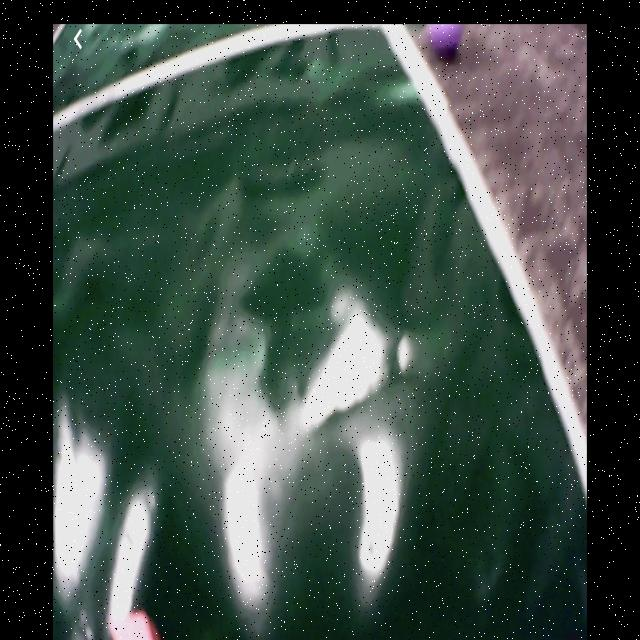ball: (425, 25, 465, 63)
